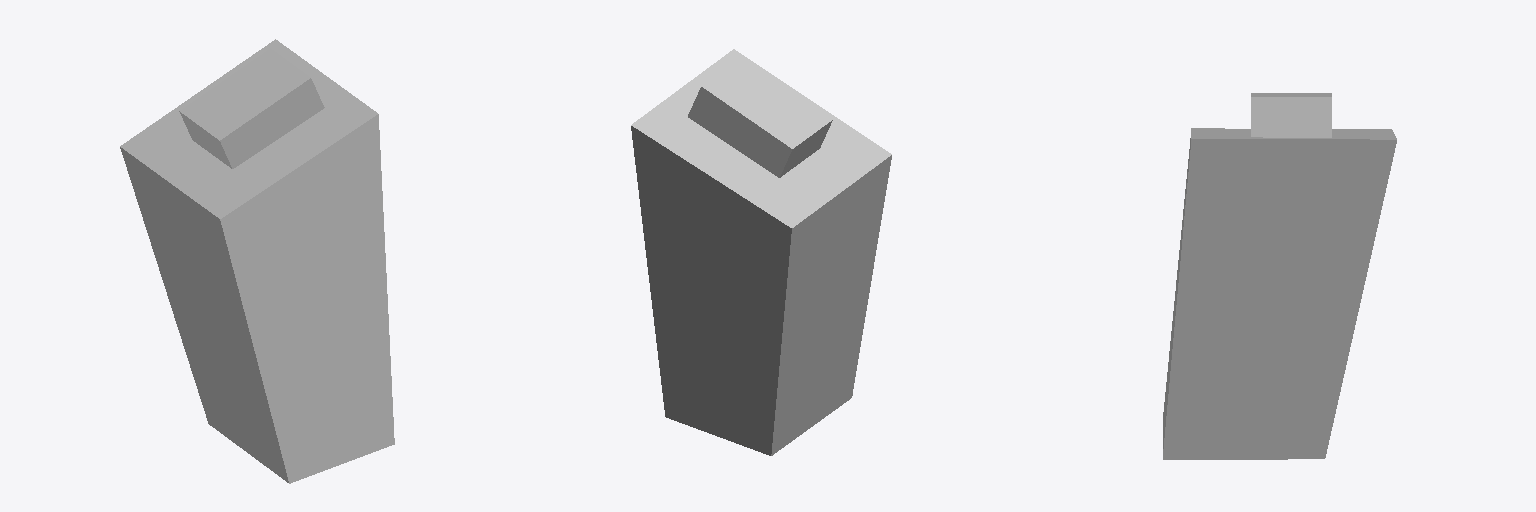
The model's file is cuisse_droite.obj.
The picture shows the model from 3 angles: view 1: azimuth 30°, elevation 25°; view 2: azimuth 150°, elevation 25°; view 3: azimuth 270°, elevation 25°; orthographic projection.
Visible parts, largest first — view 1: Object_28_Cube.004_Material.004_0, Object_27_Cube.004_Material.023_0; view 2: Object_28_Cube.004_Material.004_0, Object_27_Cube.004_Material.023_0; view 3: Object_28_Cube.004_Material.004_0, Object_27_Cube.004_Material.023_0.
Boxes of the visible parts, x1,y1,x2,y2 form: Object_28_Cube.004_Material.004_0: [120, 39, 394, 483]; Object_27_Cube.004_Material.023_0: [179, 48, 324, 168]; Object_28_Cube.004_Material.004_0: [631, 49, 891, 455]; Object_27_Cube.004_Material.023_0: [688, 57, 832, 177]; Object_28_Cube.004_Material.004_0: [1163, 128, 1396, 459]; Object_27_Cube.004_Material.023_0: [1251, 93, 1331, 137].
Bounding box in the file's own units: 1.22 × 2.61 × 1.55.